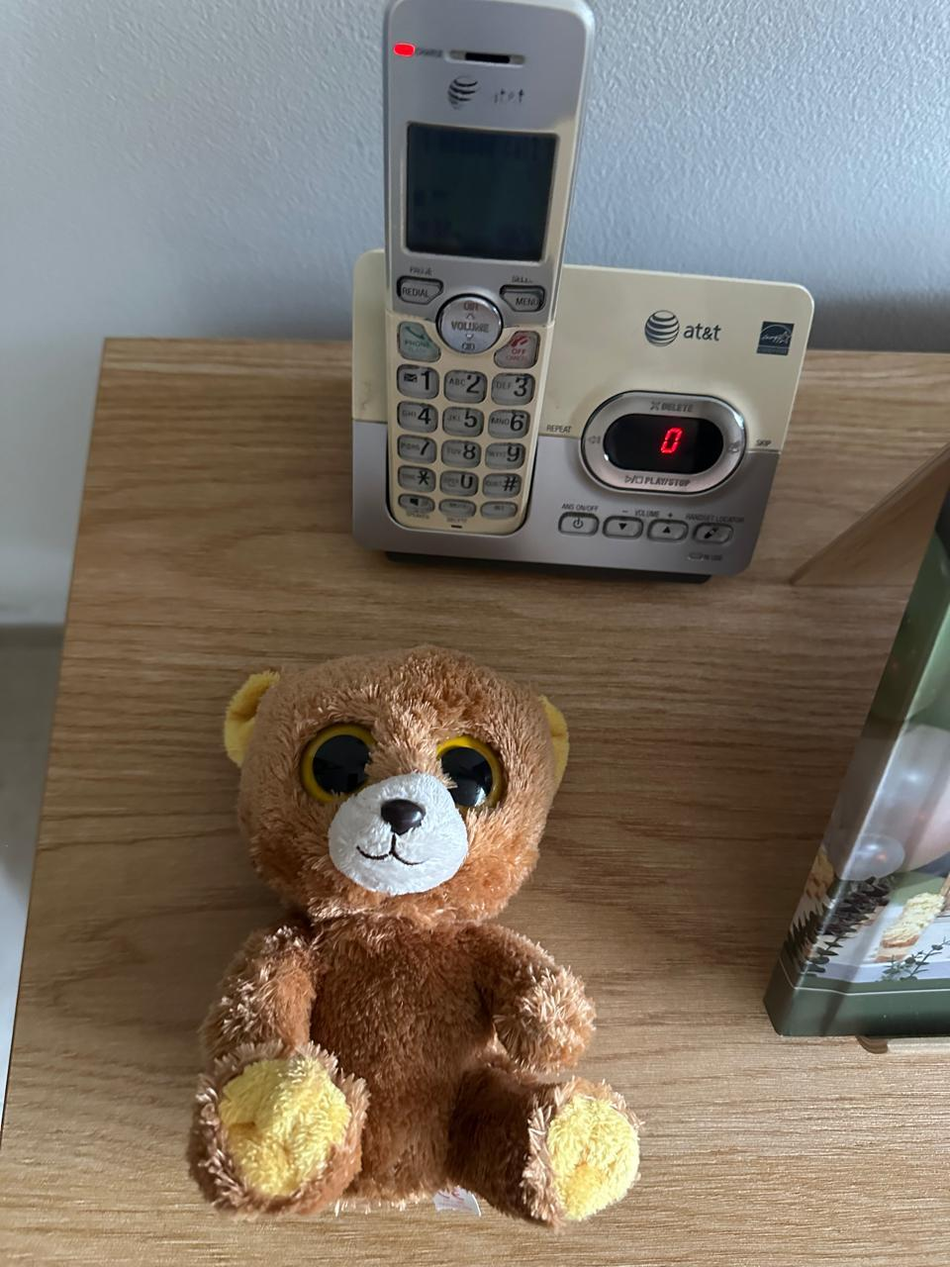peluche_sebastian: (188, 643, 638, 1222)
